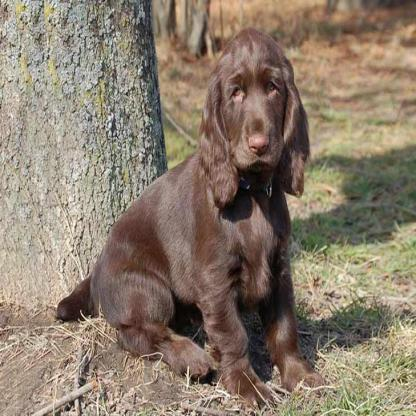Field Spaniel: (57, 22, 321, 409)
